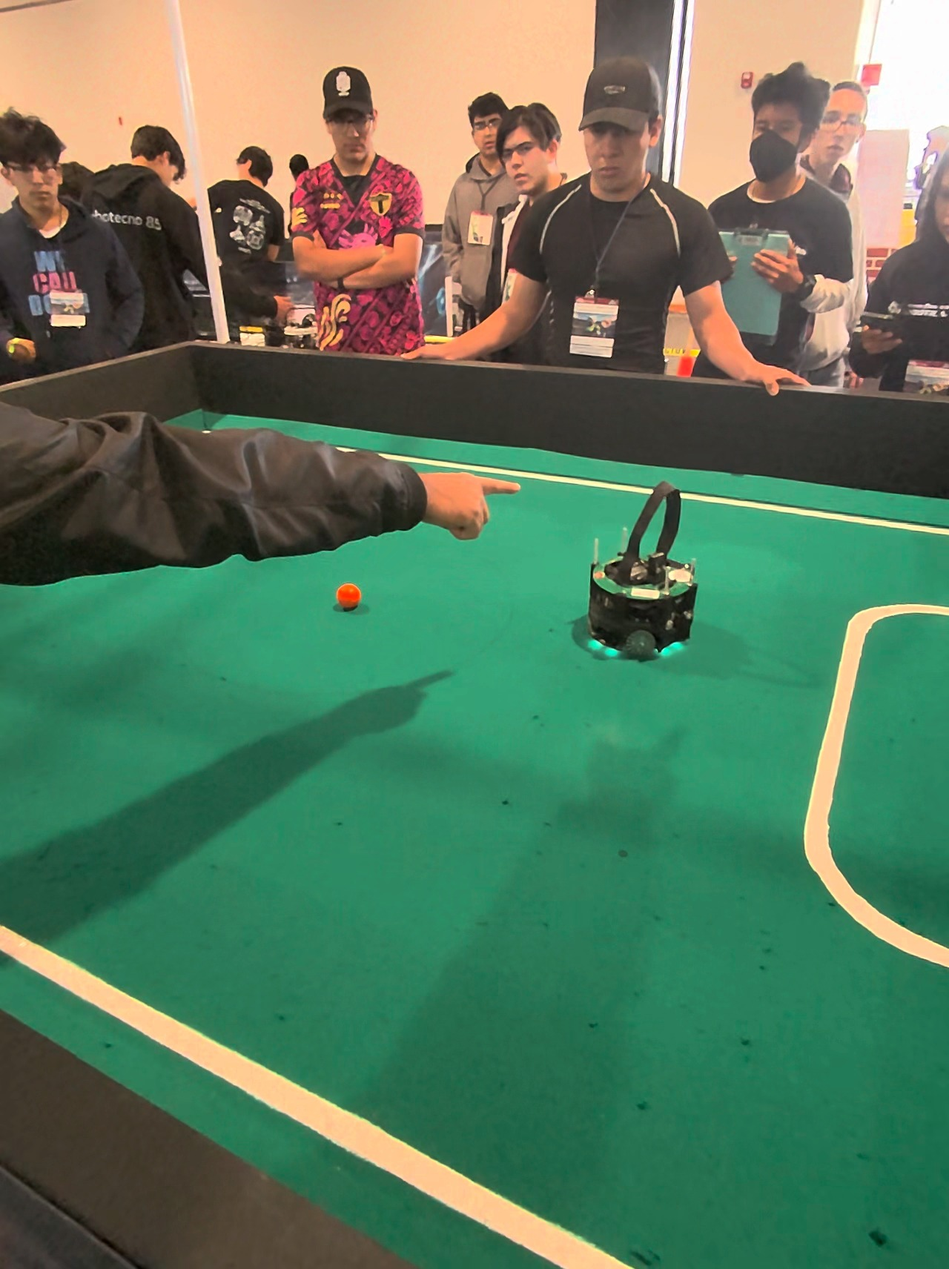Robot: (578, 478, 703, 680)
pelota: (337, 581, 364, 610)
